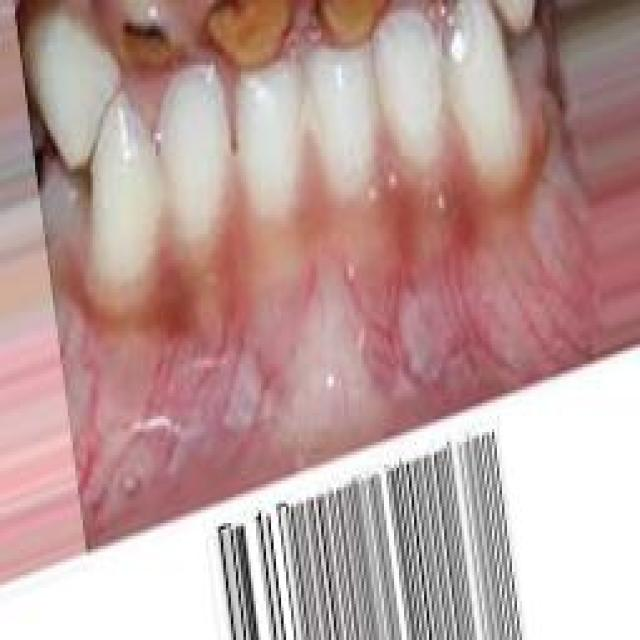caries: (204, 0, 302, 71), (107, 0, 198, 71), (312, 0, 392, 57)
